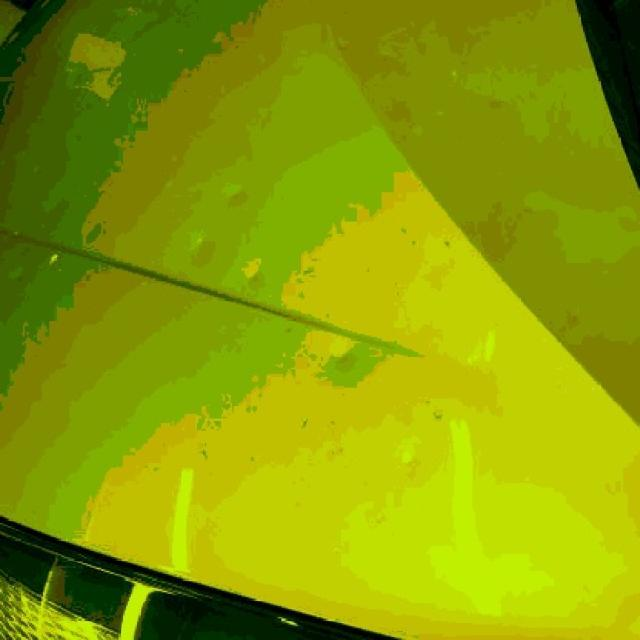dent: (186, 236, 219, 264), (221, 183, 249, 209), (397, 443, 420, 472)
